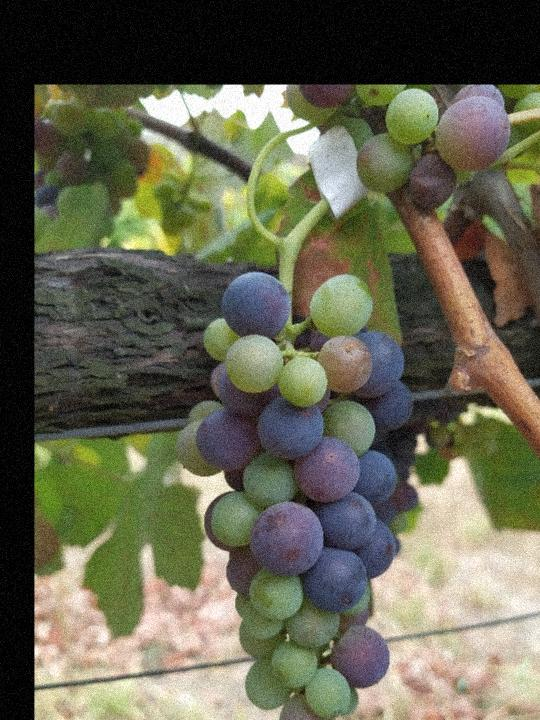grape: (171, 270, 415, 720)
